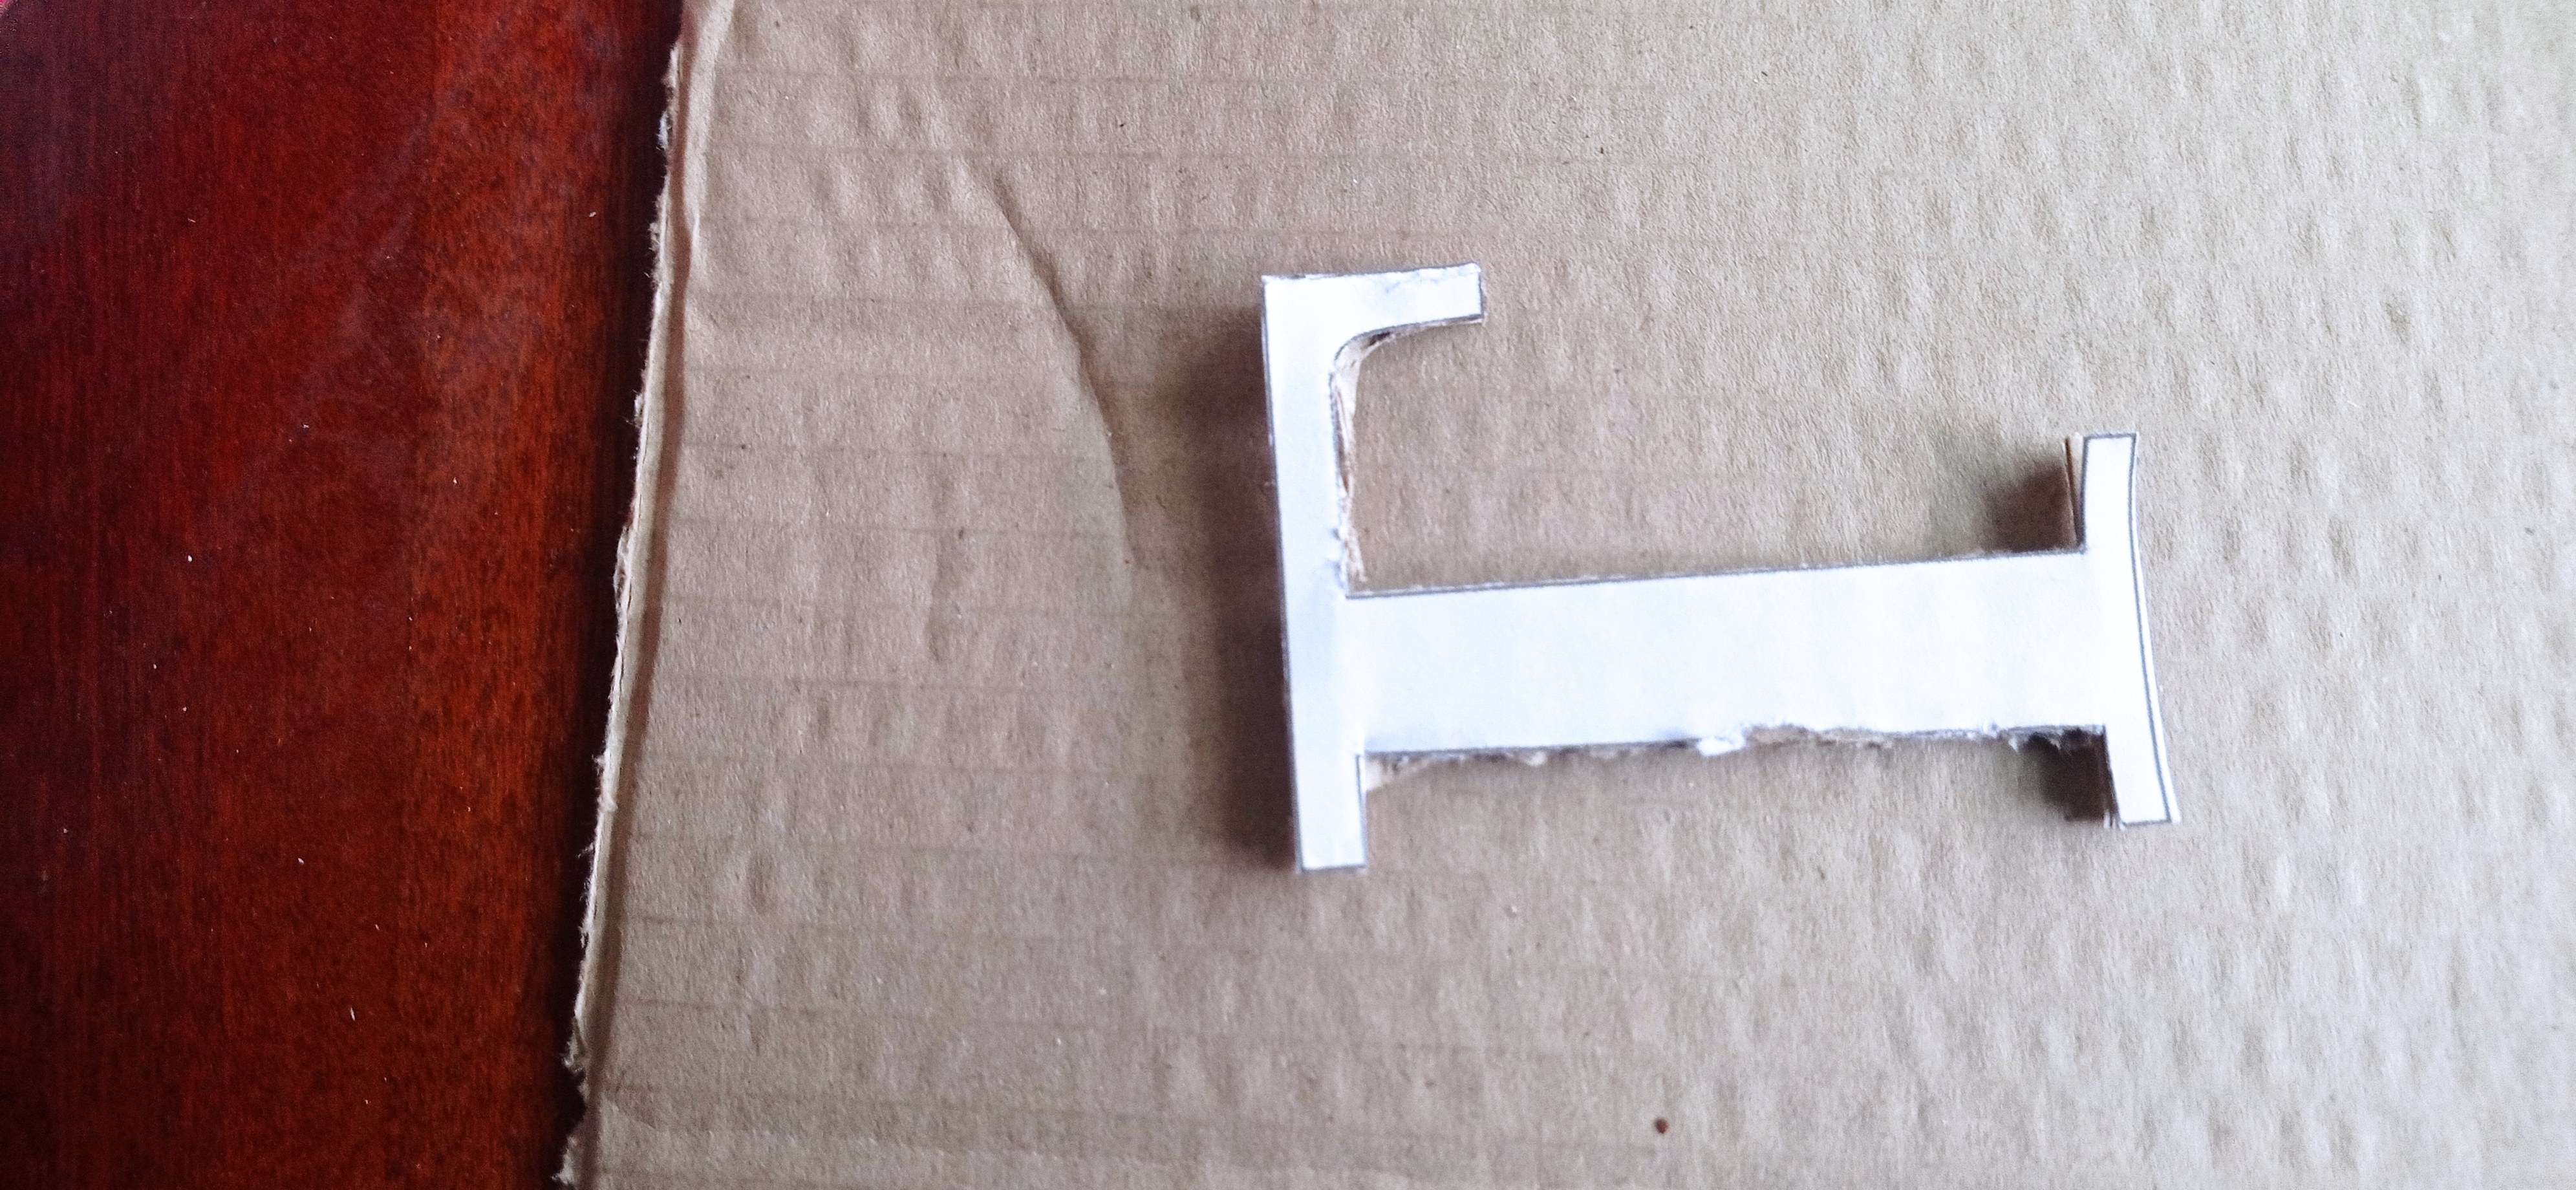g: (1258, 260, 2187, 878)
